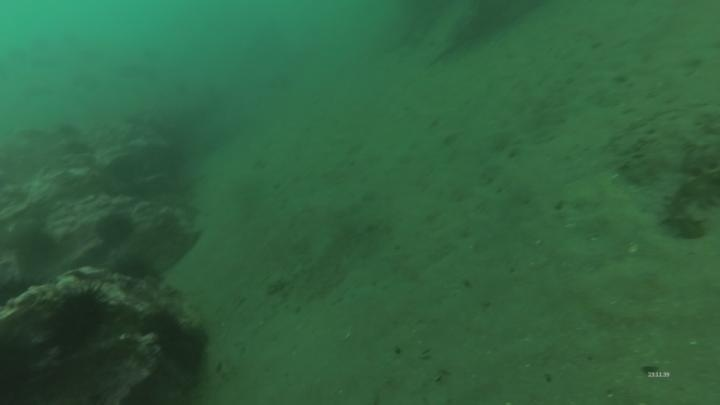echinus: (44, 283, 113, 356), (94, 210, 137, 249), (111, 251, 155, 283)
